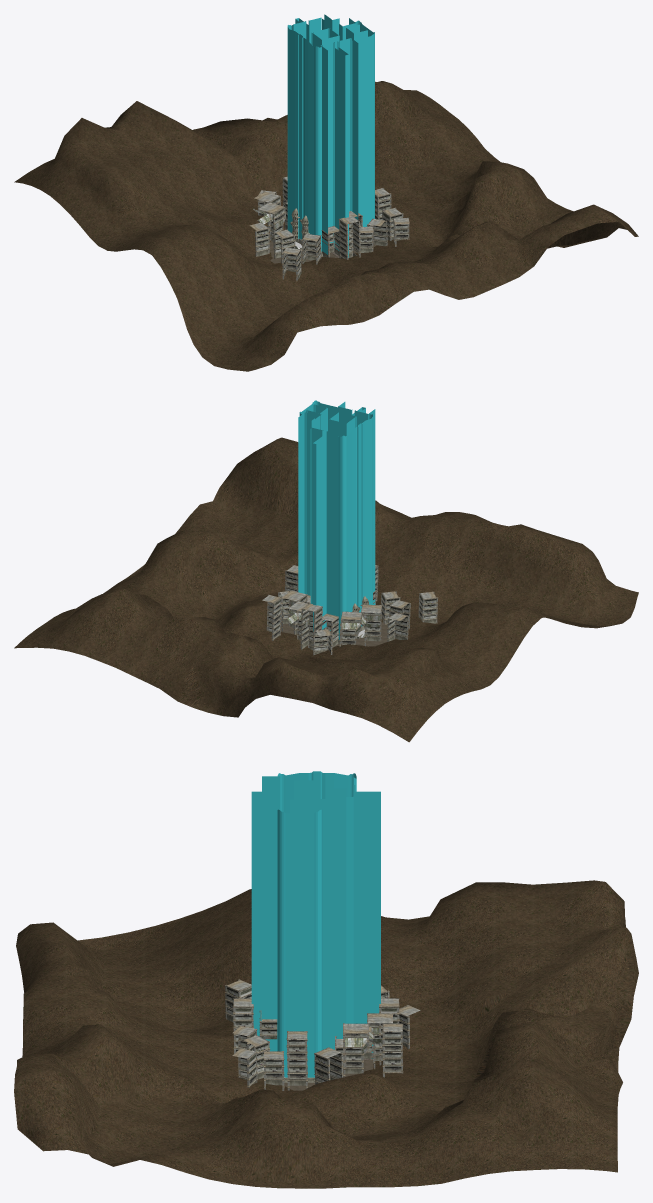
File: Dragonfly_Neighbourhood.fbx
3 renders of one model, top to bottom at view 1: azimuth 30°, elevation 25°; view 2: azimuth 150°, elevation 25°; view 3: azimuth 270°, elevation 25°, orthographic. The views are drawn at different scales.
Parts seen in each view (by area): view 1: Terrain, InvisWalls, Map; view 2: Terrain, InvisWalls, Map; view 3: Terrain, InvisWalls, Map.
Part boxes in pixels (left/top/right/bottom): Terrain: left=14, top=81, right=638, bottom=371; InvisWalls: left=287, top=14, right=374, bottom=257; Map: left=249, top=176, right=409, bottom=281; Terrain: left=14, top=437, right=638, bottom=742; InvisWalls: left=298, top=400, right=375, bottom=639; Map: left=262, top=565, right=438, bottom=655; Terrain: left=14, top=880, right=638, bottom=1188; InvisWalls: left=251, top=771, right=380, bottom=1077; Map: left=224, top=979, right=420, bottom=1090.
Size of the model in its own units: 692 by 360 by 699.
